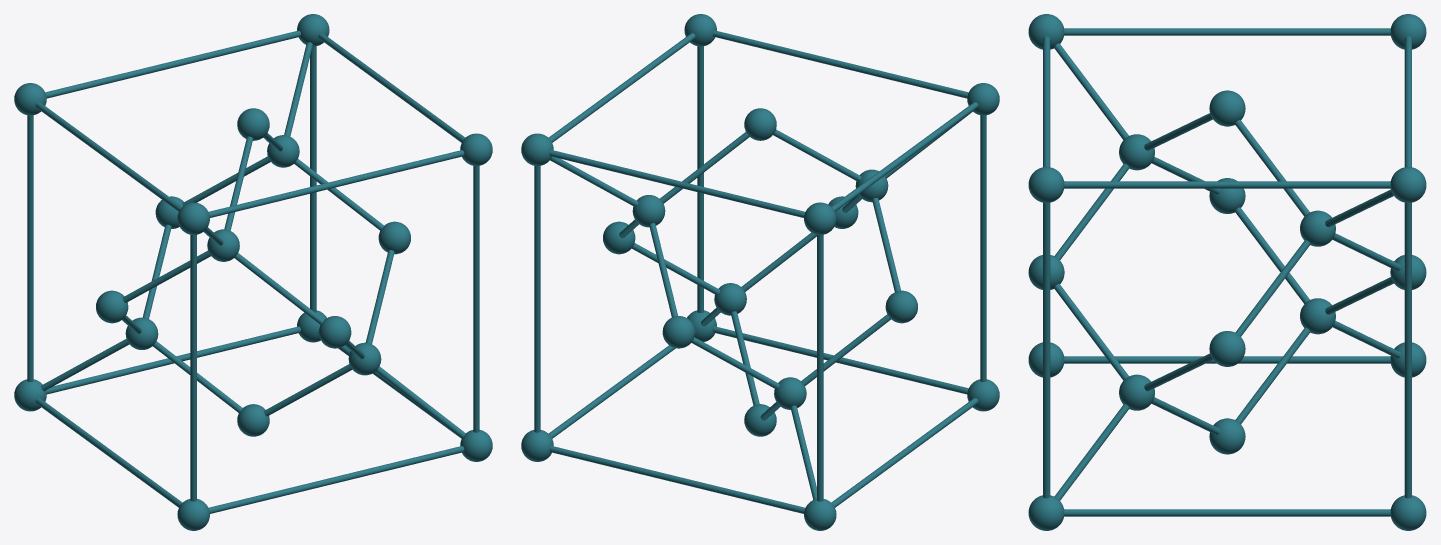
3 views of the same model, side by side, from view 1: azimuth 30°, elevation 25°; view 2: azimuth 150°, elevation 25°; view 3: azimuth 270°, elevation 25° (orthographic). The views are drawn at different scales.
Parts seen in each view (by area): view 1: ZnS Unit Cell; view 2: ZnS Unit Cell; view 3: ZnS Unit Cell.
Part boxes in pixels (<box>): ZnS Unit Cell: <box>14,14,492,530</box>; ZnS Unit Cell: <box>521,14,999,530</box>; ZnS Unit Cell: <box>1028,14,1426,530</box>.
Size of the model in its own units: 2.2 by 2.2 by 2.2.
